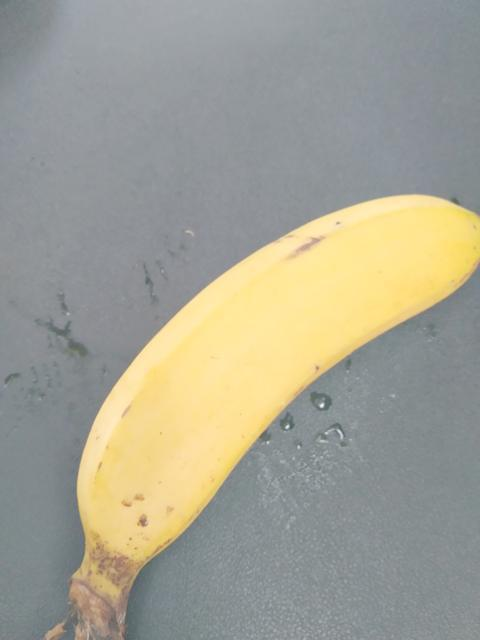freshripe: (49, 170, 479, 586)
